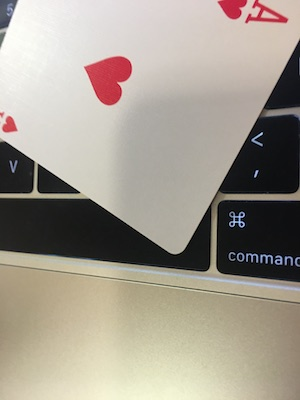AceOfHearts: (1, 1, 296, 256)
